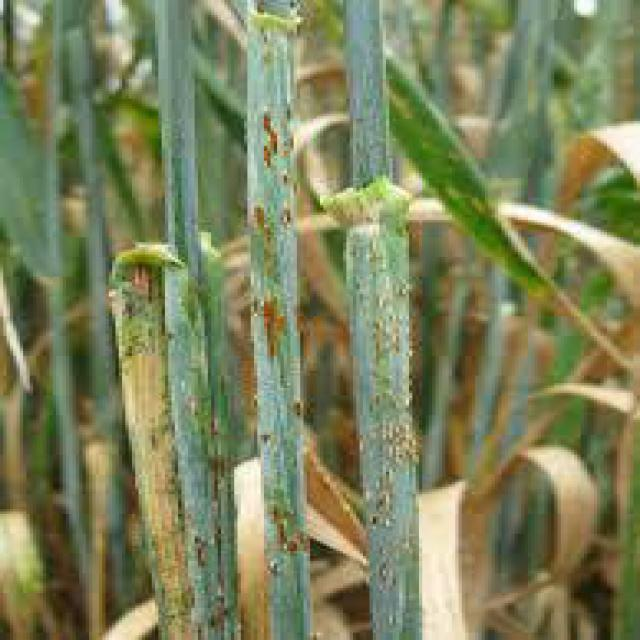Stem Rust: (247, 15, 325, 624), (345, 184, 426, 640)
